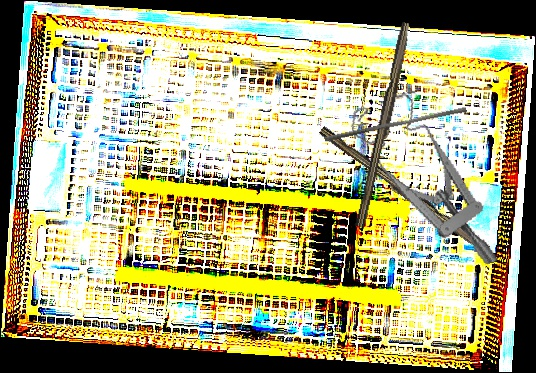Pusher: (323, 101, 468, 148)
Scalpel Handle: (314, 125, 493, 257), (354, 21, 415, 229)
Speculum: (346, 79, 499, 289)
